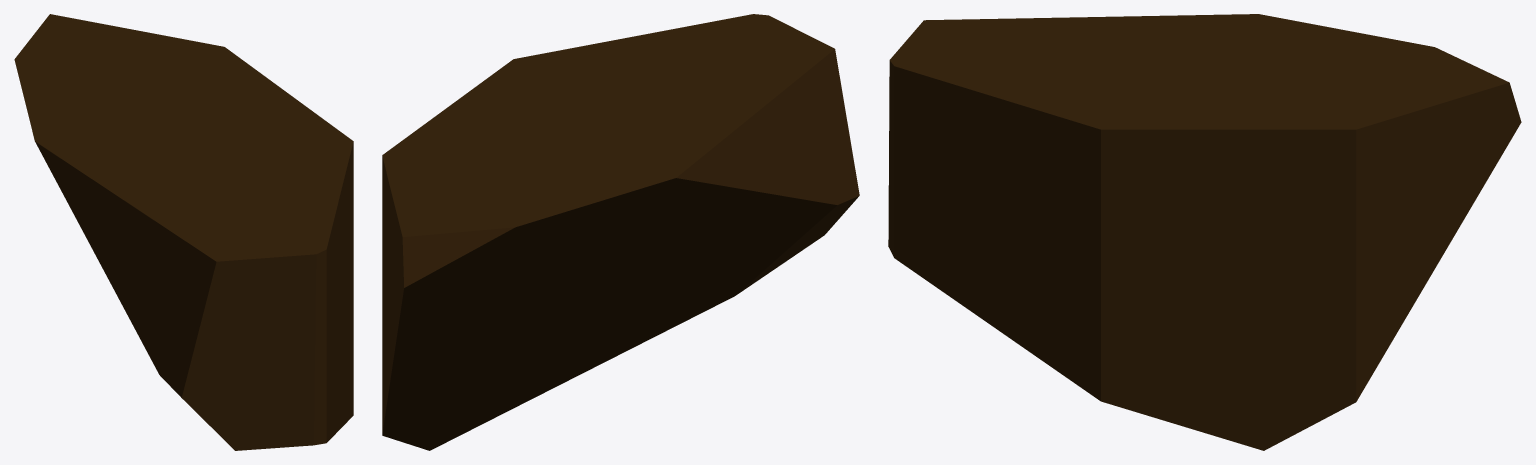
File: Debris14.glb
3 views of the same model, side by side, from view 1: azimuth 30°, elevation 25°; view 2: azimuth 150°, elevation 25°; view 3: azimuth 270°, elevation 25° (orthographic). The views are drawn at different scales.
Parts seen in each view (by area): view 1: Cylinder_cell.006; view 2: Cylinder_cell.006; view 3: Cylinder_cell.006.
Part boxes in pixels (<box>): Cylinder_cell.006: <box>14,14,353,450</box>; Cylinder_cell.006: <box>382,14,859,450</box>; Cylinder_cell.006: <box>888,14,1521,450</box>.
Bounding box in the file's own units: 0.799 × 0.9673 × 1.73.
